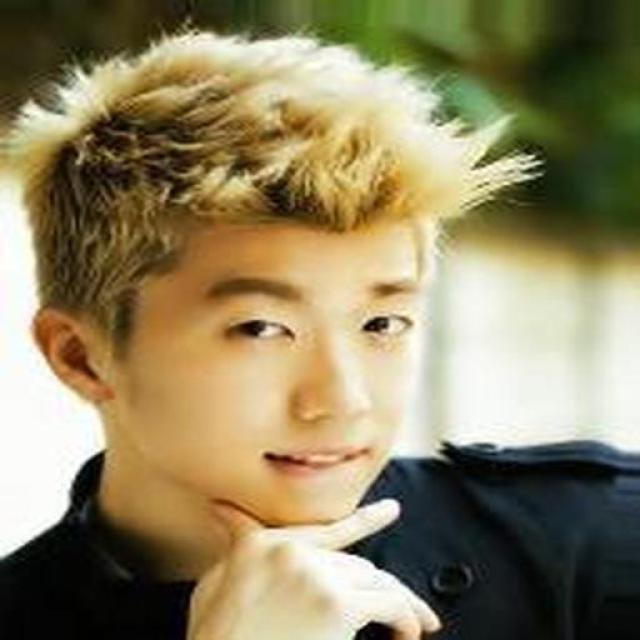bareface: (48, 76, 456, 512)
